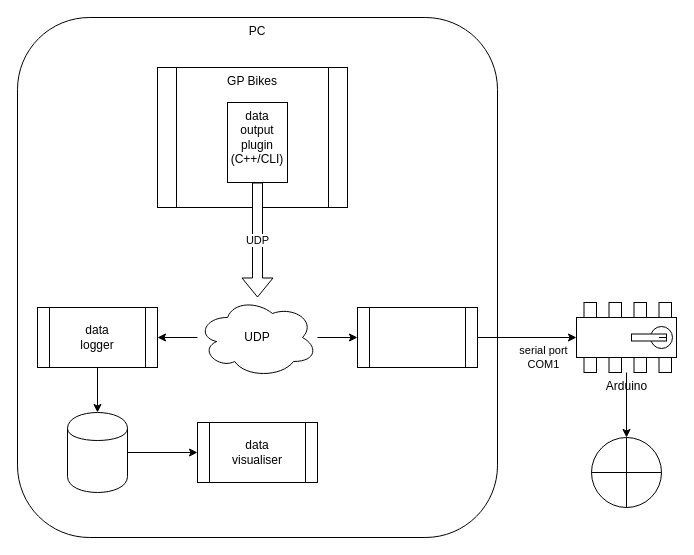
This 694x555 diagram has some shape labels left out. The shapes that lost their labels are listed below. From the top down, each one's centre as x and y in pixels, then its label:
At point 417,337: "Arduino receiver".
At point 97,452: "SQLite".
At point 626,472: "tachometer".
